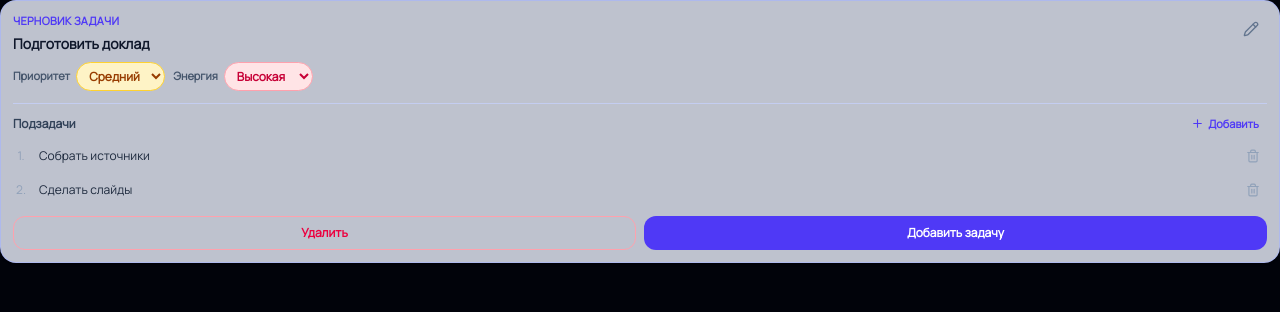
Scenario: MindHubDraftCard › keeps the draft available when saving fails
Later steps or results of the test are not shown.
Click the button "Добавить задачу".
click(956, 233)  # box [644, 216, 1267, 250]
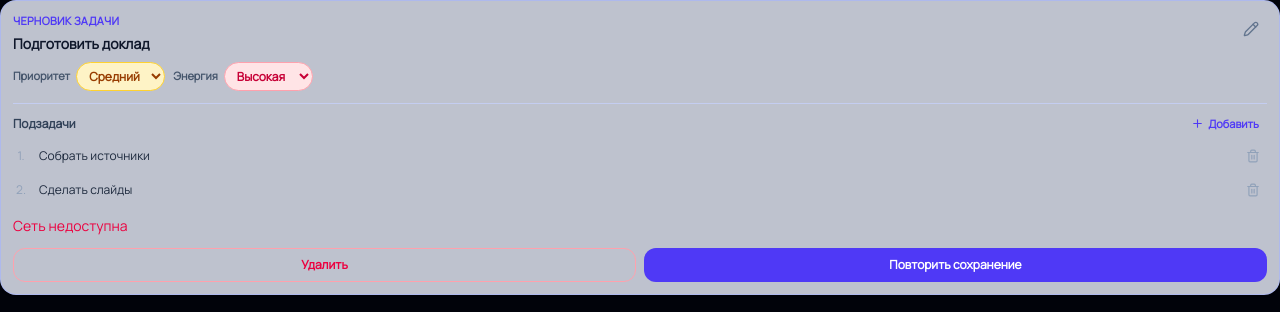
expect the text "Сеть недоступна" is shown: met, box [13, 216, 128, 235]
